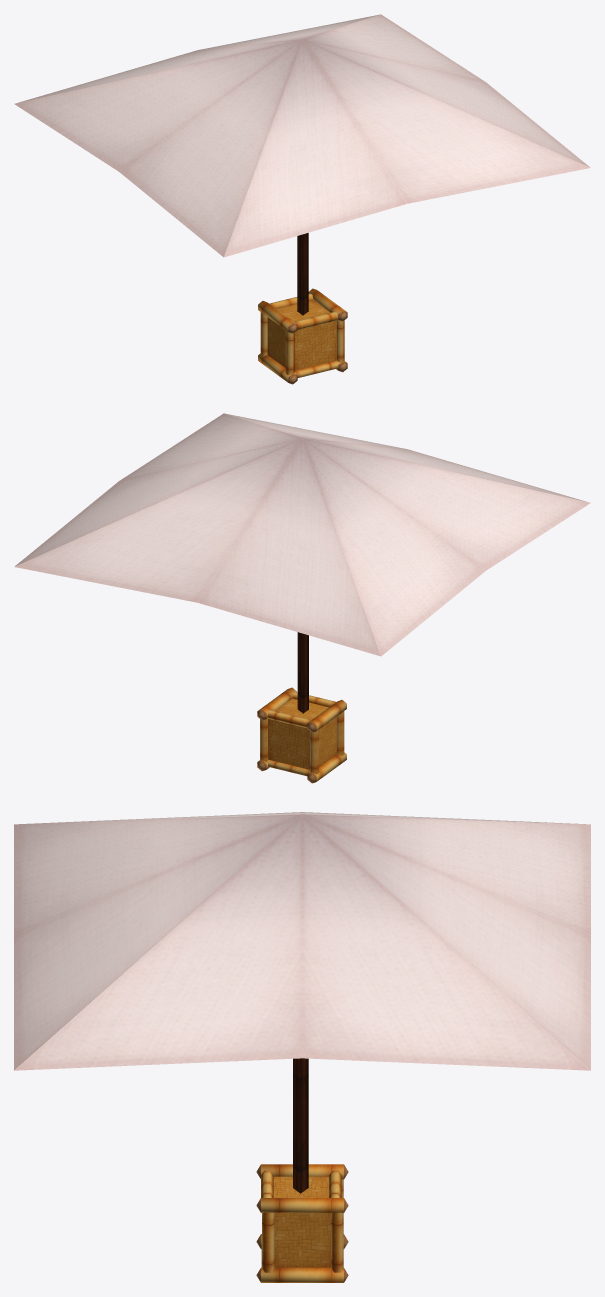
The model's file is ETC0610012.fbx.
3 views of the same model, one above another, from view 1: azimuth 30°, elevation 25°; view 2: azimuth 150°, elevation 25°; view 3: azimuth 270°, elevation 25° (orthographic). The views are drawn at different scales.
Parts seen in each view (by area): view 1: smETC0610012; view 2: smETC0610012; view 3: smETC0610012.
Part boxes in pixels (x1,y1,x2,y2): smETC0610012: (14,14,590,384); smETC0610012: (14,413,590,783); smETC0610012: (14,812,590,1282).
Size of the model in its own units: 384 by 328 by 380.
Materials: 1 (1 with a texture image).
